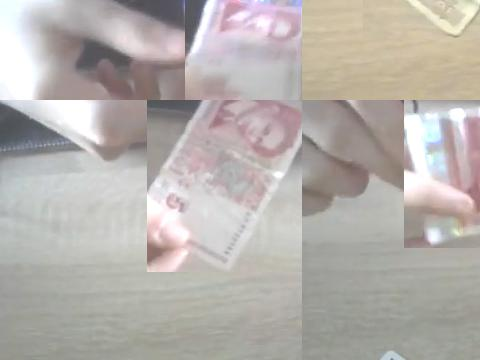5leva: (147, 100, 302, 272), (404, 105, 480, 248)
